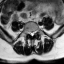CCS_normal: (31, 28, 33, 38)
LFS_normal: (35, 27, 37, 34)
LLS_normal: (33, 28, 35, 36)
RFS_normal: (27, 28, 29, 35)
RLS_normal: (29, 29, 31, 36)
